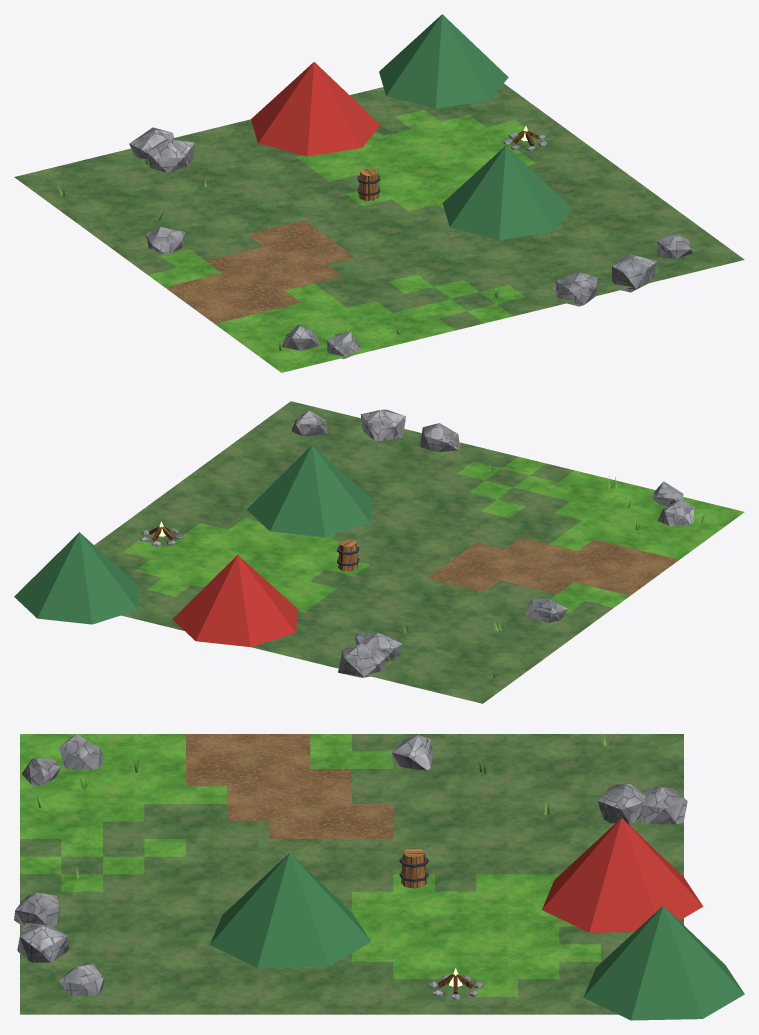
File: chunk_9_15.glb
3 views of the same model, one above another, from view 1: azimuth 30°, elevation 25°; view 2: azimuth 150°, elevation 25°; view 3: azimuth 270°, elevation 25° (orthographic). The views are drawn at different scales.
Parts seen in each view (by area): view 1: chunk_9_15; view 2: chunk_9_15; view 3: chunk_9_15.
Boxes of the visible parts, x1,y1,x2,y2 form: chunk_9_15: (14,14,744,372); chunk_9_15: (14,401,744,703); chunk_9_15: (14,733,744,1020).
Bounding box in the file's own units: 16.34 × 2.72 × 17.61.
Materials: 11 (6 with a texture image).
